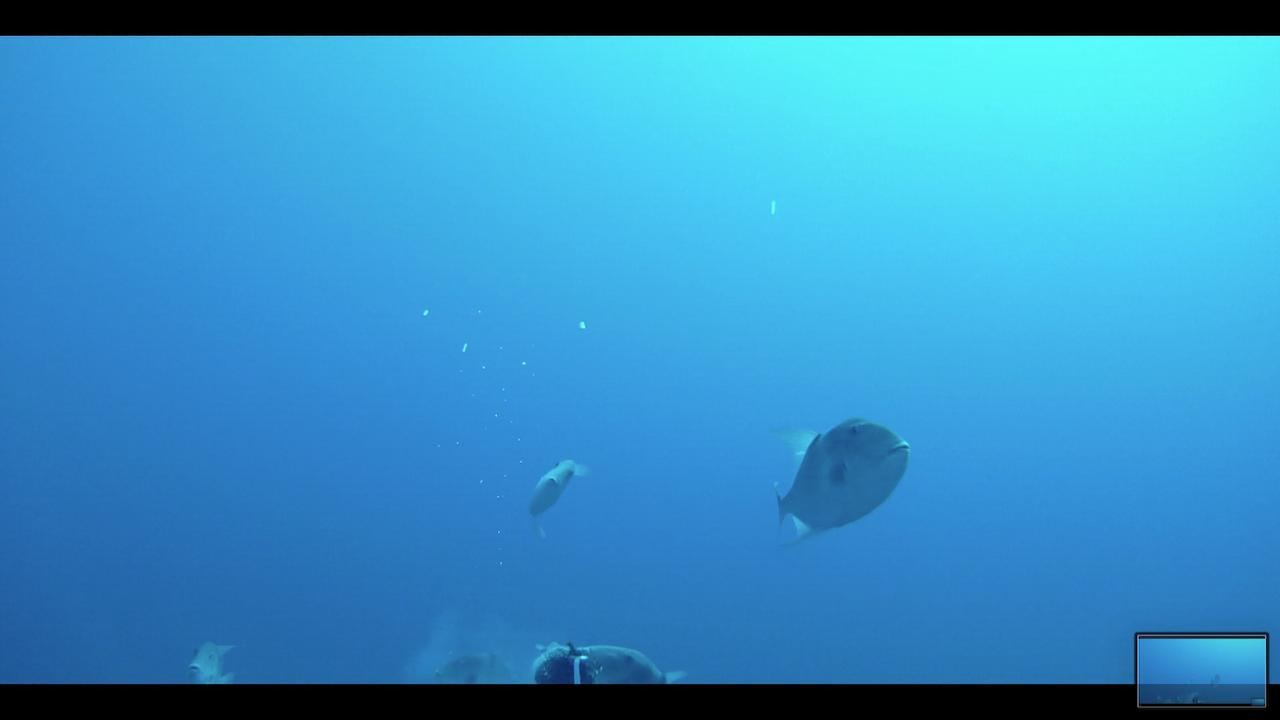balistes: (759, 406, 914, 551), (516, 450, 593, 541), (568, 641, 690, 681), (414, 648, 528, 680), (181, 637, 244, 681)
